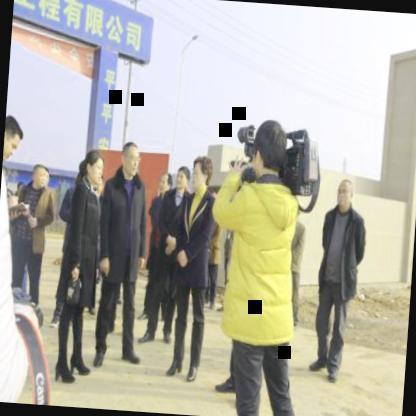head: (250, 116, 288, 178), (3, 110, 26, 166), (80, 146, 108, 190), (119, 137, 144, 179), (190, 152, 214, 195), (333, 176, 358, 216), (30, 158, 48, 192), (156, 166, 173, 198), (174, 161, 190, 194)
